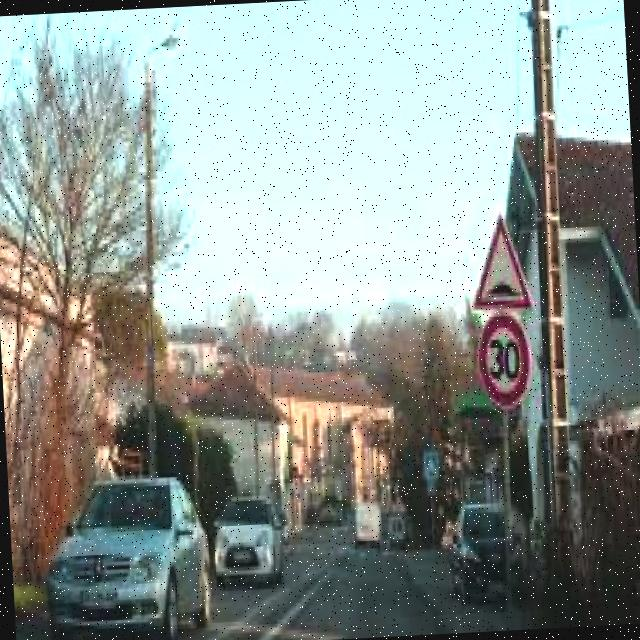Ograniczenie predkosci do 30: (474, 311, 536, 415)
